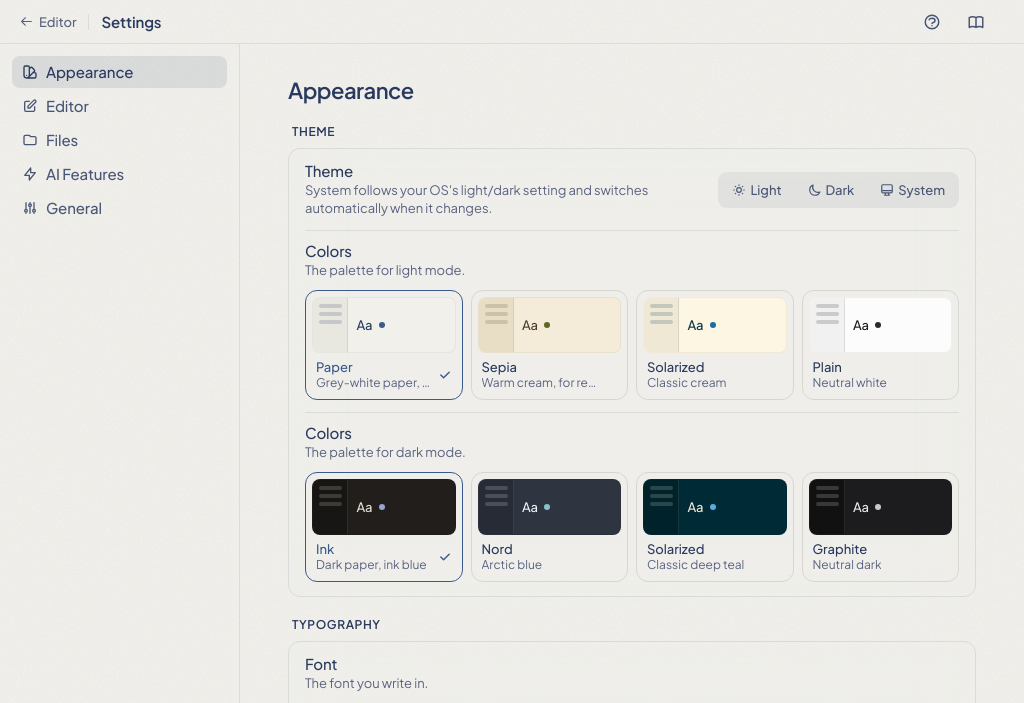
Scenario: SettingsPage › names the AI settings plainly
Click the button "AI Features" at (120, 174), box [12,158,227,190]
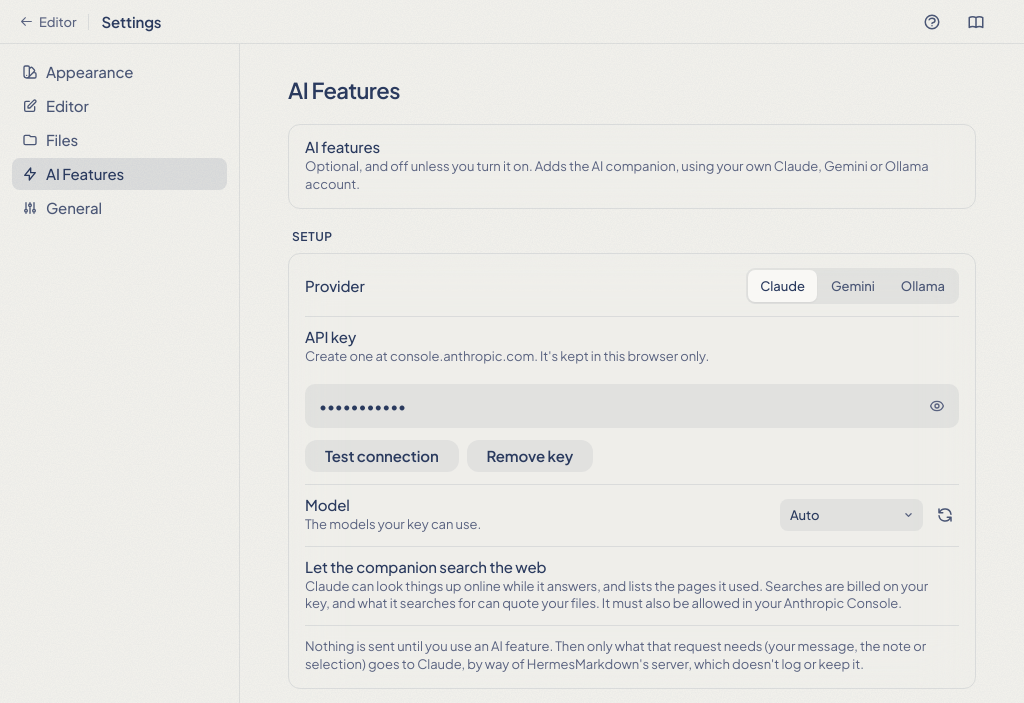
Now the text "Optional, and off unless you turn it on" is shown, box [305,158,929,192]
Now the text "Provider" is shown, box [305,278,365,293]
Now the text "Model" is shown, box [305,495,350,514]
